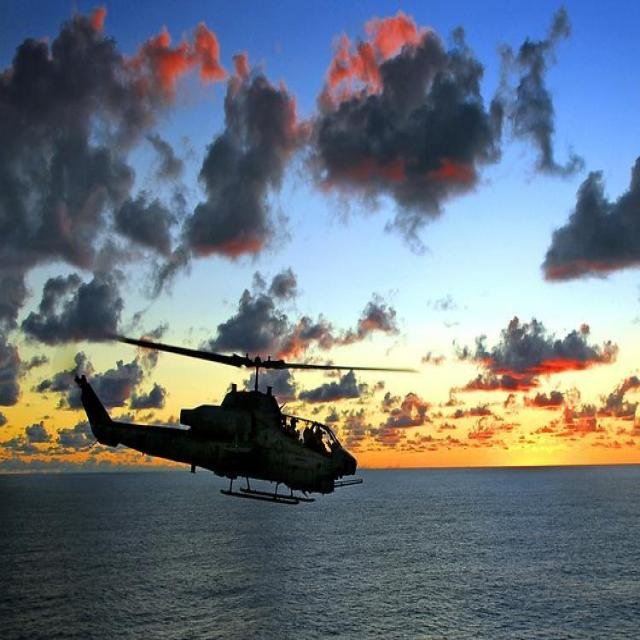MIL_HELO: (62, 312, 426, 531)
